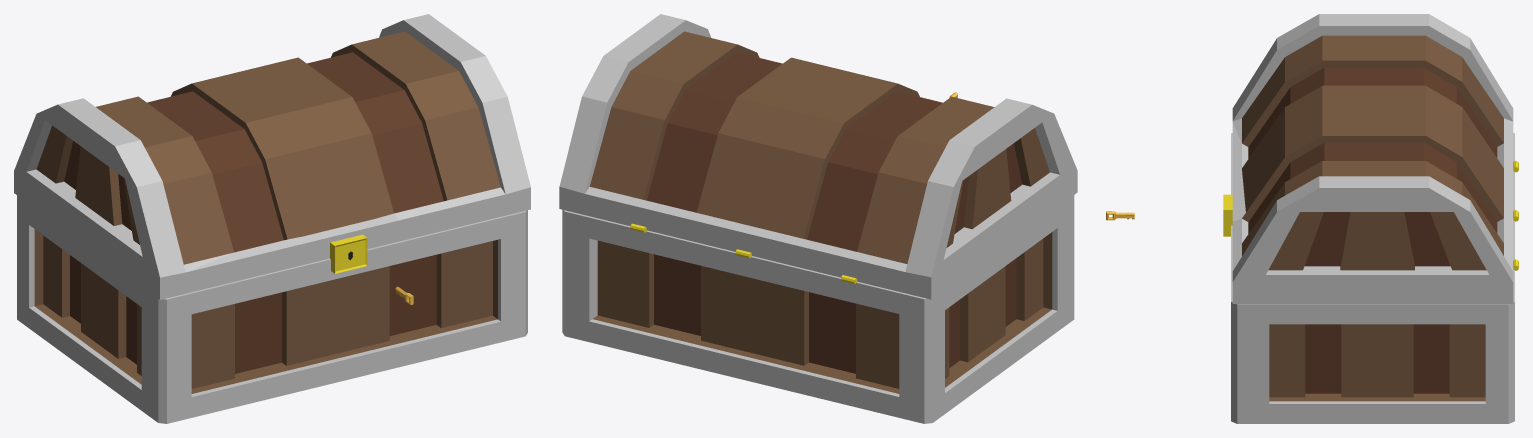
Rendered from bau.fbx.
3 views of the same model, side by side, from view 1: azimuth 30°, elevation 25°; view 2: azimuth 150°, elevation 25°; view 3: azimuth 270°, elevation 25° (orthographic). The views are drawn at different scales.
Parts seen in each view (by area): view 1: Cube; view 2: Cube; view 3: Cube.
Part boxes in pixels (<box>): Cube: <box>14,14,530,423</box>; Cube: <box>559,14,1077,423</box>; Cube: <box>1223,14,1518,423</box>.
Size of the model in its own units: 421 by 266 by 422.
